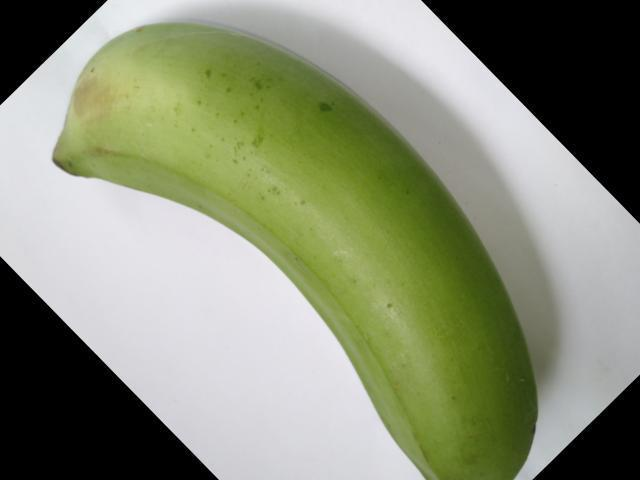freshunripe: (41, 13, 558, 479)
